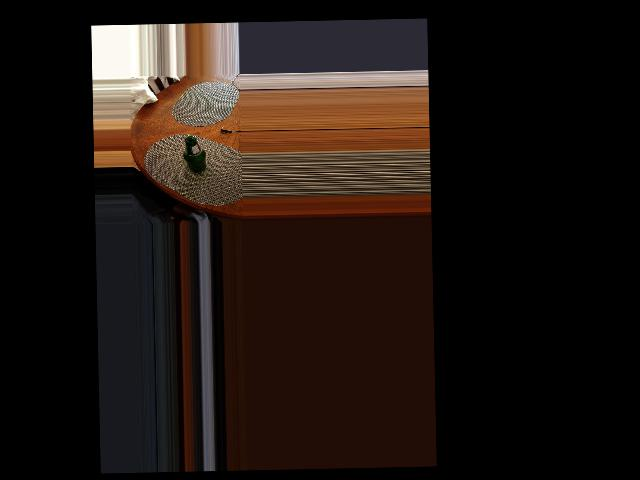beer: (182, 136, 205, 173)
